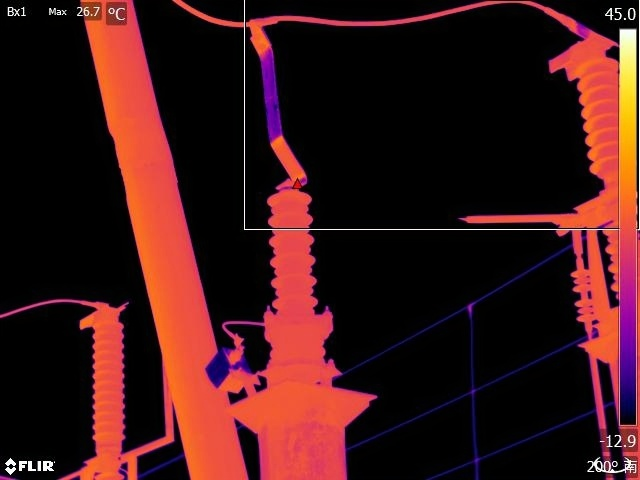lightning arrester: (249, 169, 346, 396), (73, 303, 136, 480)
post insulator: (566, 57, 623, 181)
